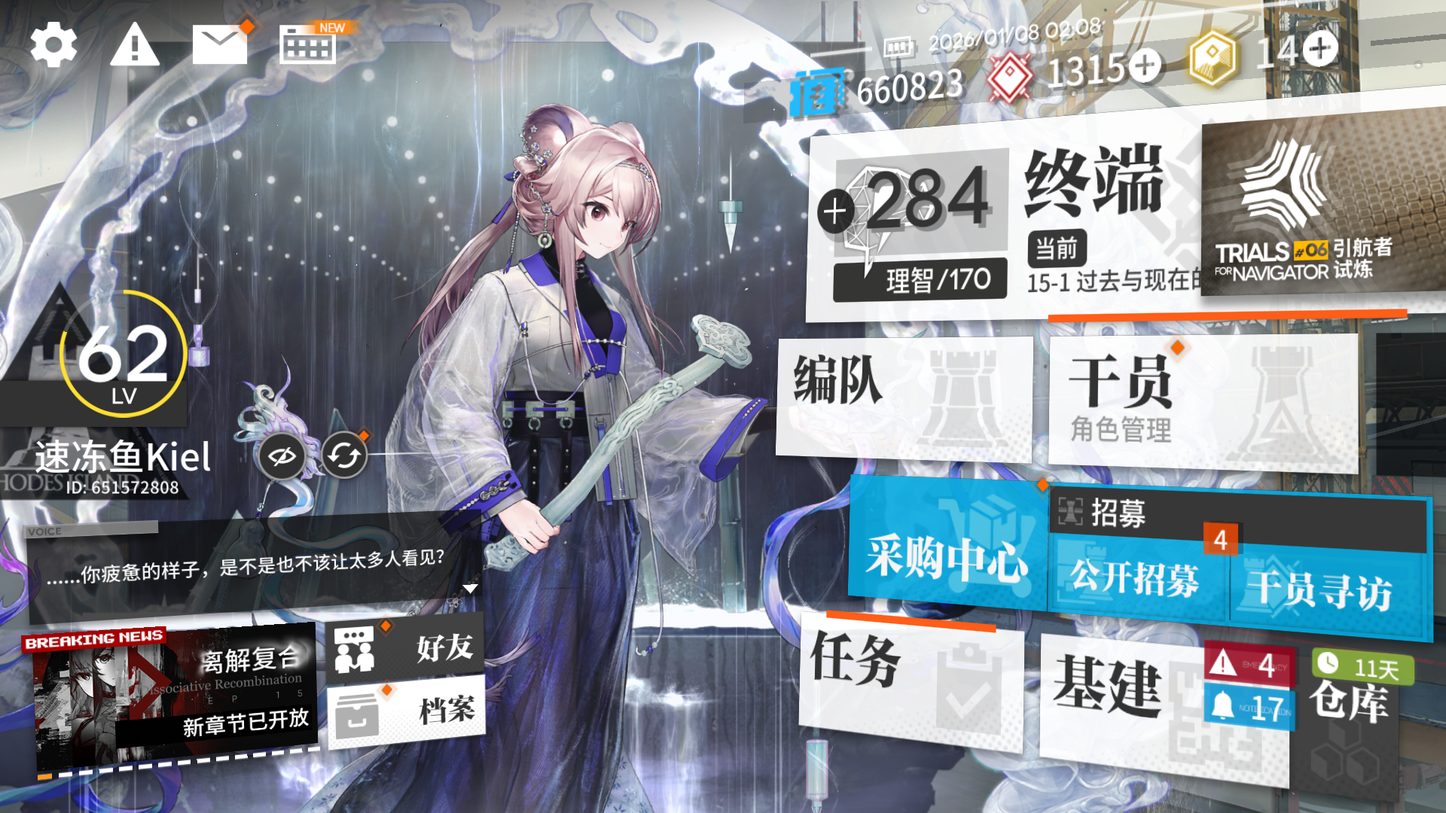home_button: (1002, 126, 1183, 242)
infrastructure_button: (1052, 639, 1285, 781)
